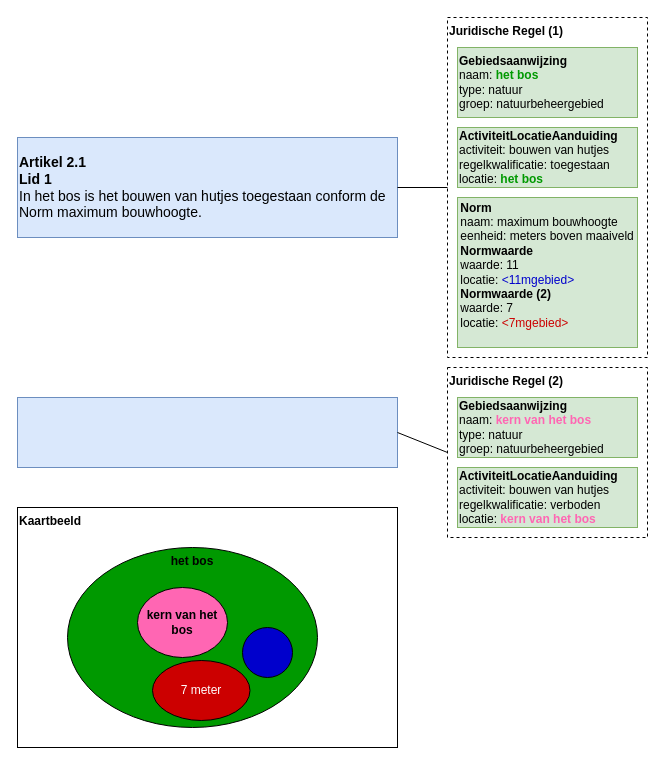
The diagram is 665 pixels wide and 765 high, and some of its shapes have lost their labels. The centre of each missing label's shape, as x and y in pixels:
"11 meter" belongs at [267,652].
"Lid 2 In de kern van het bos is het bouwen van hutjes verboden" belongs at [207,432].
